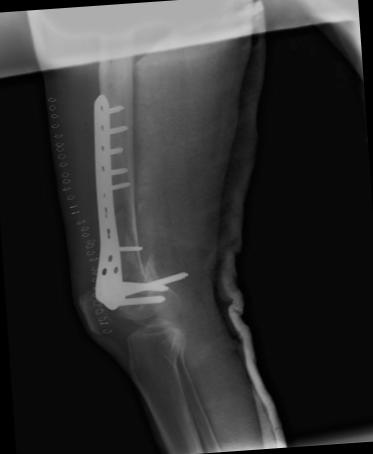fractured: (136, 253, 156, 282), (113, 202, 135, 222)
